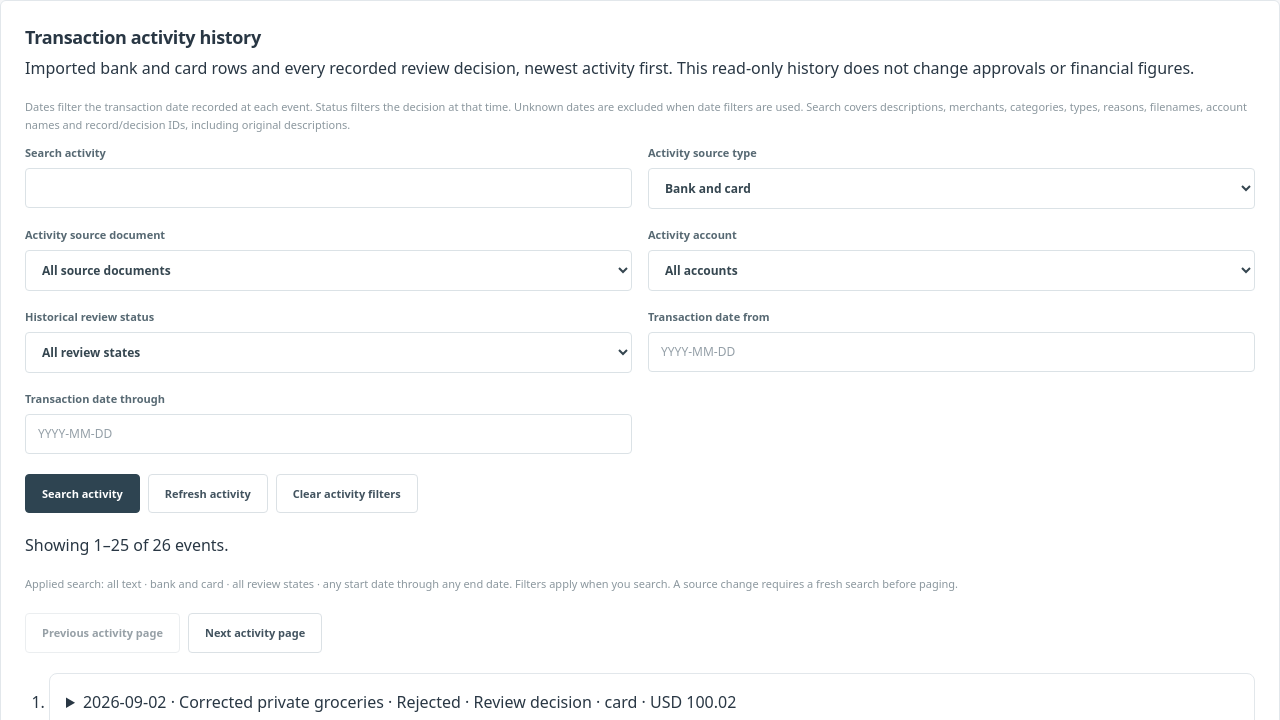
submits filters and pages with the applied filters and snapshot even while the next draft changes
This screenshot has width=1280, height=720.
Check: the text "Showing 1–25 of 26 events." is shown, box [25,534,228,556]
Type "Food" into the field labelled "Search activity" at [328, 188], box [25,168,632,208]
Select "Card" in the dropdown labelled "Activity source type" at [952, 189], box [648,168,1255,209]
Select "Renamed card (archived)" in the dropdown labelled "Activity account" at [952, 271], box [648,250,1255,291]
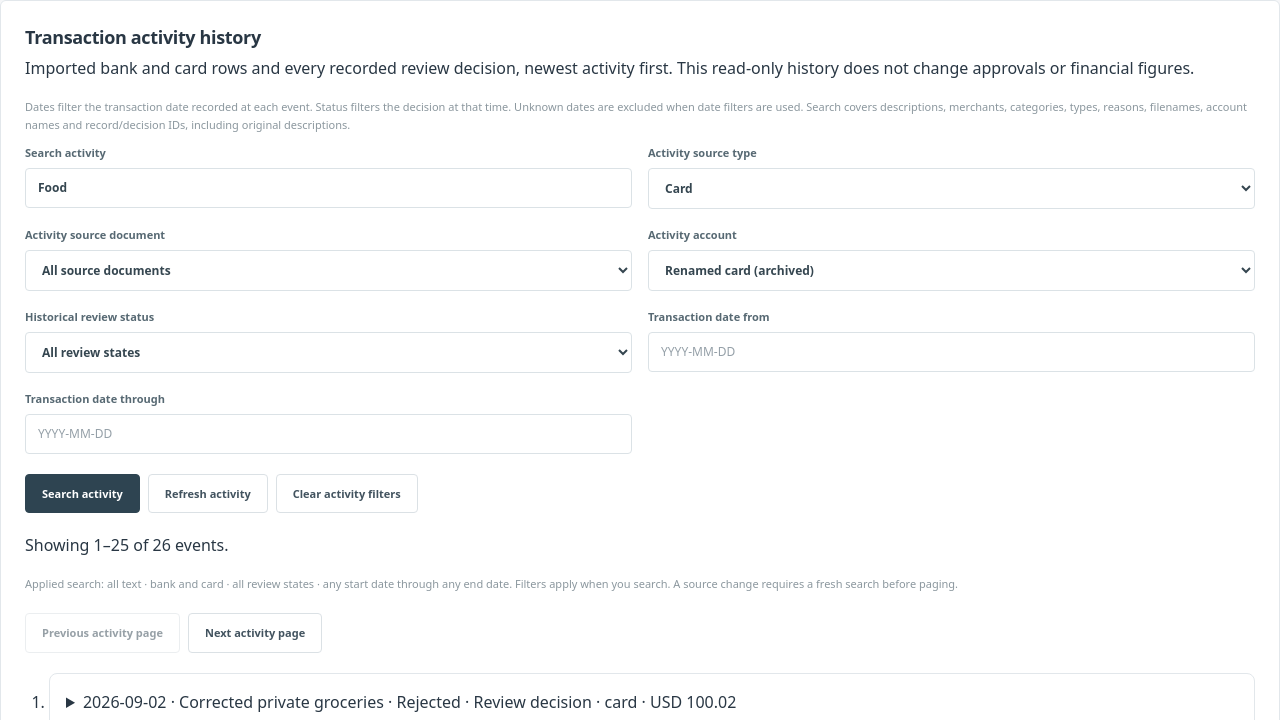
Select "Approved" in the dropdown labelled "Historical review status" at [328, 353], box [25,332,632,373]
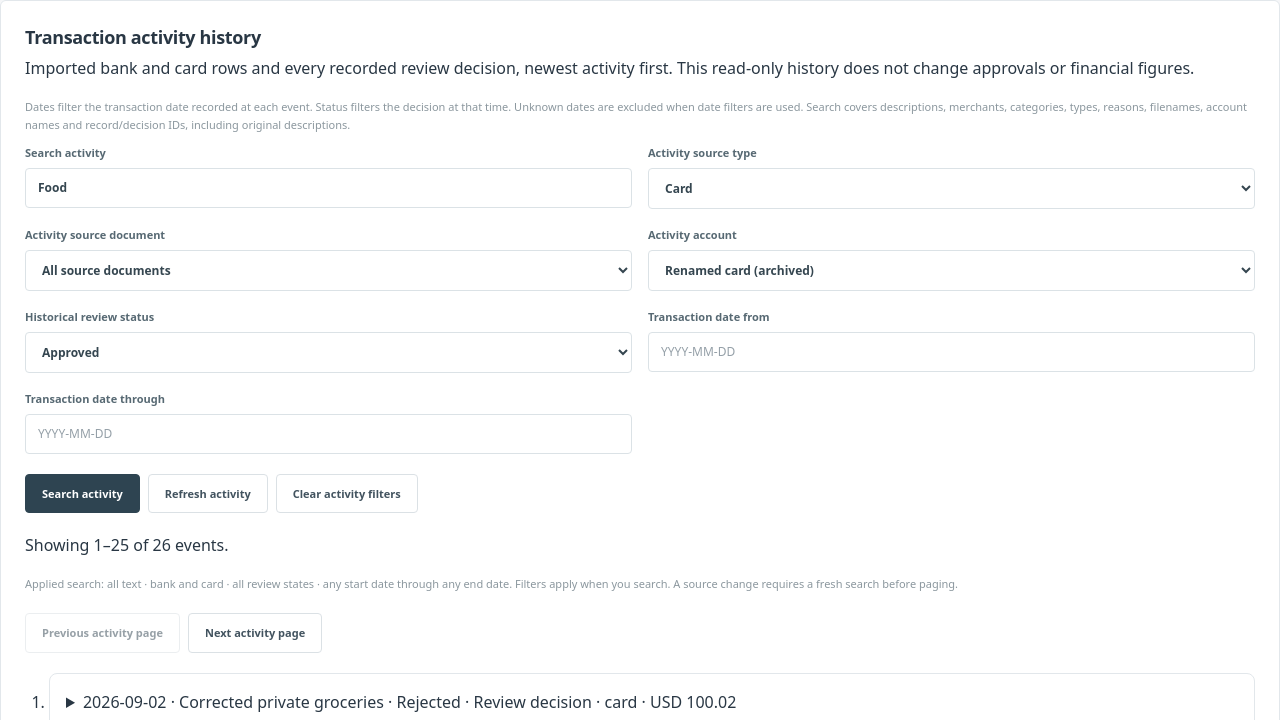
Type "2026-09-01" into the field labelled "Transaction date from" at [952, 352], box [648,332,1255,372]
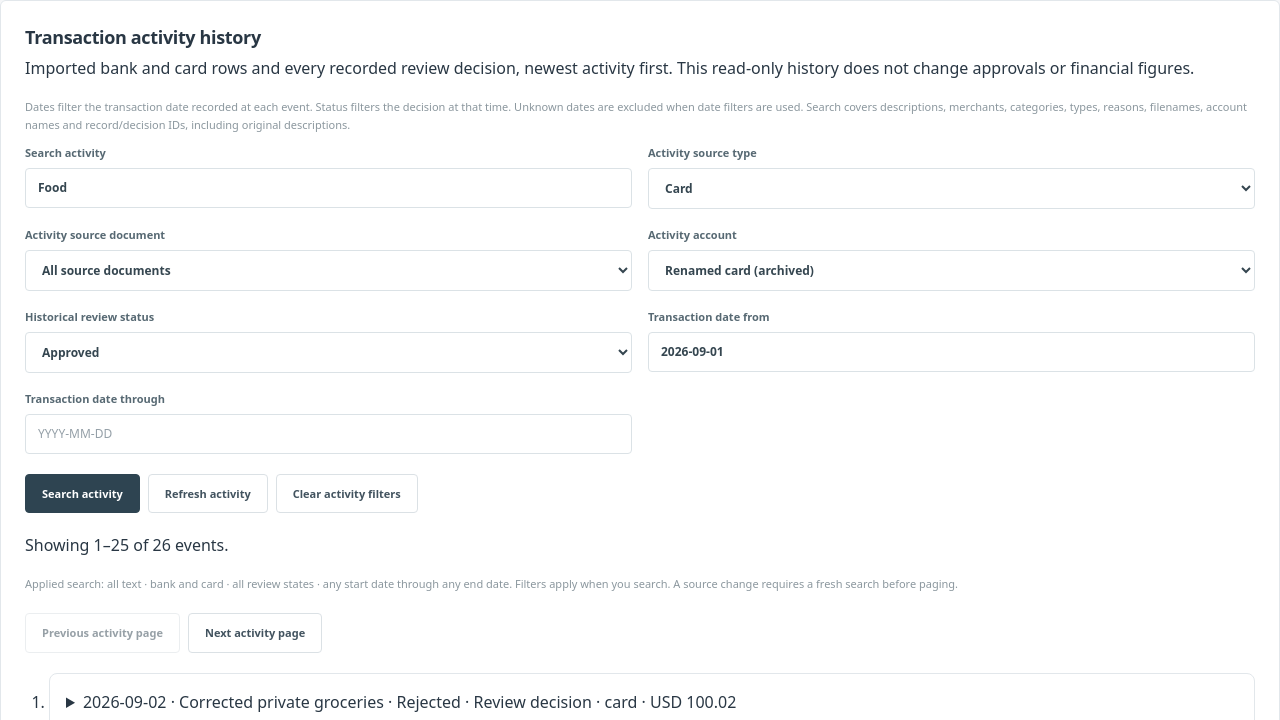
Click the button "Search activity" at [82, 494], box [25,474,140,514]
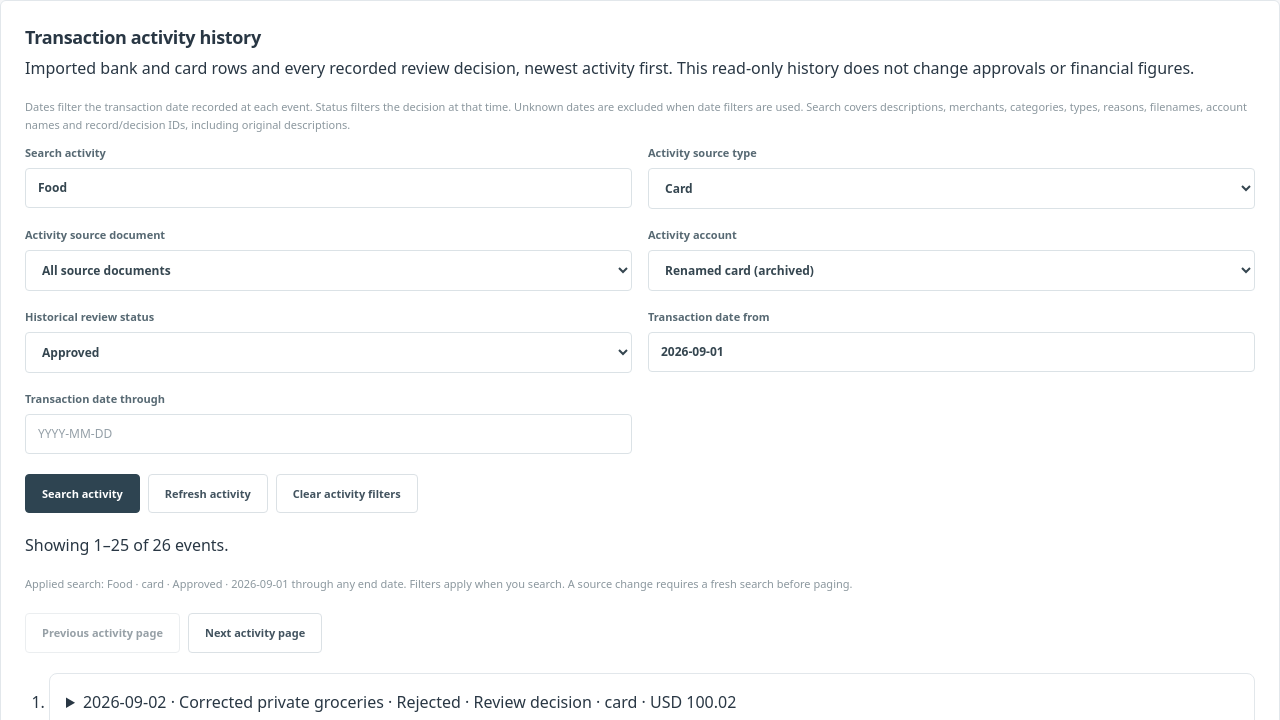
Check: the text "Applied search: Food" is shown, box [25,576,852,591]
Replace the text in the field labelled "Search activity" with "unsubmitted" at [328, 188], box [25,168,632,208]
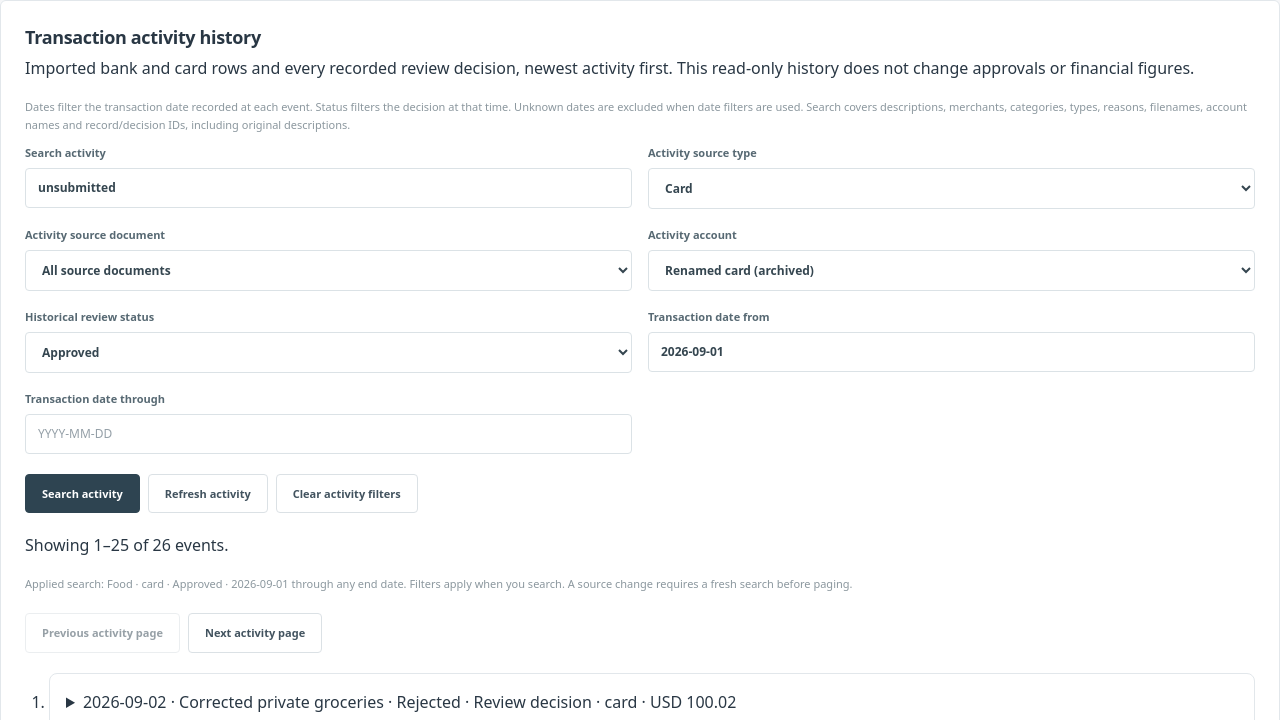
Click the button "Next activity page" at [255, 633], box [188,613,322,653]
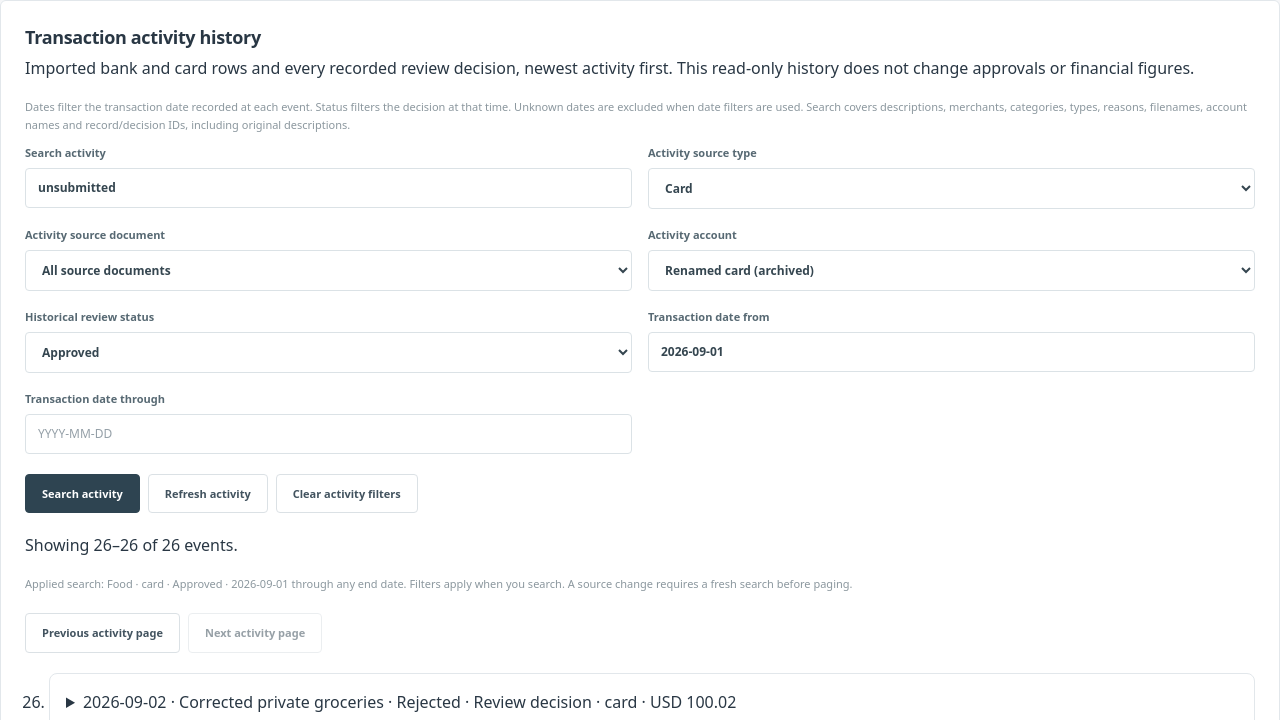
Check: the text "Showing 26–26 of 26 events." is shown, box [25,534,238,556]
